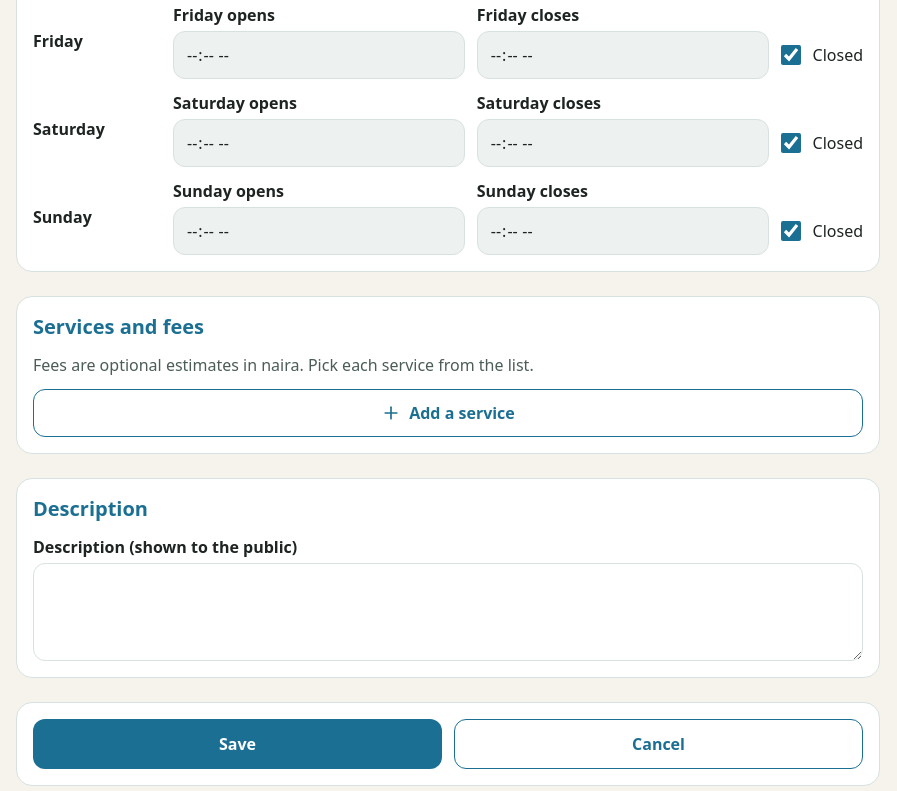
Test: phones, services and the position › adds and removes service rows with their fee fields
The width and height of the screenshot is (897, 791).
(page scrolled)
Click the button "Add a service" at (448, 413), box [33,389,863,437]
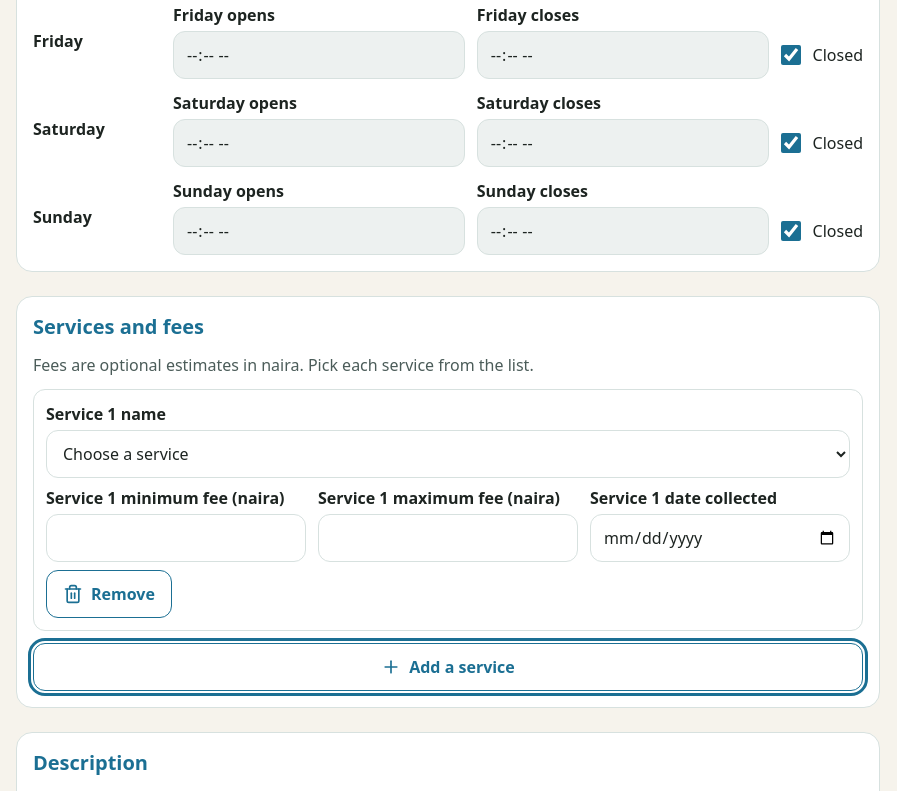
Select "X-ray" in the dropdown labelled "Service 1 name" at (448, 454), box [46,430,850,478]
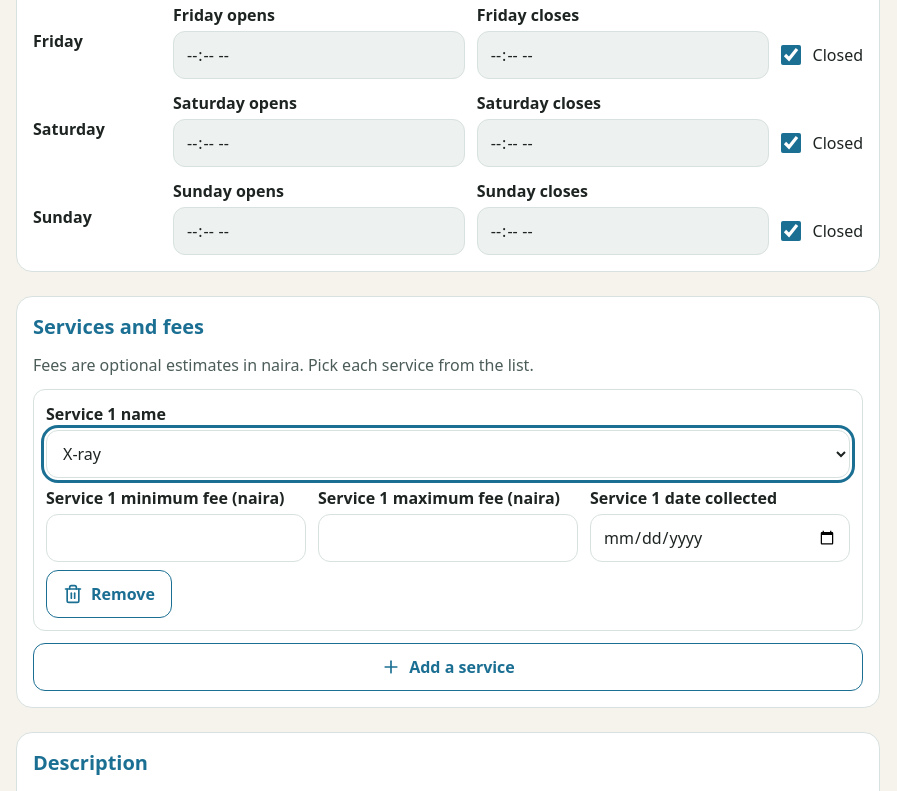
Type "5000" into the field labelled "Service 1 minimum fee (naira)" at (176, 538), box [46,514,306,562]
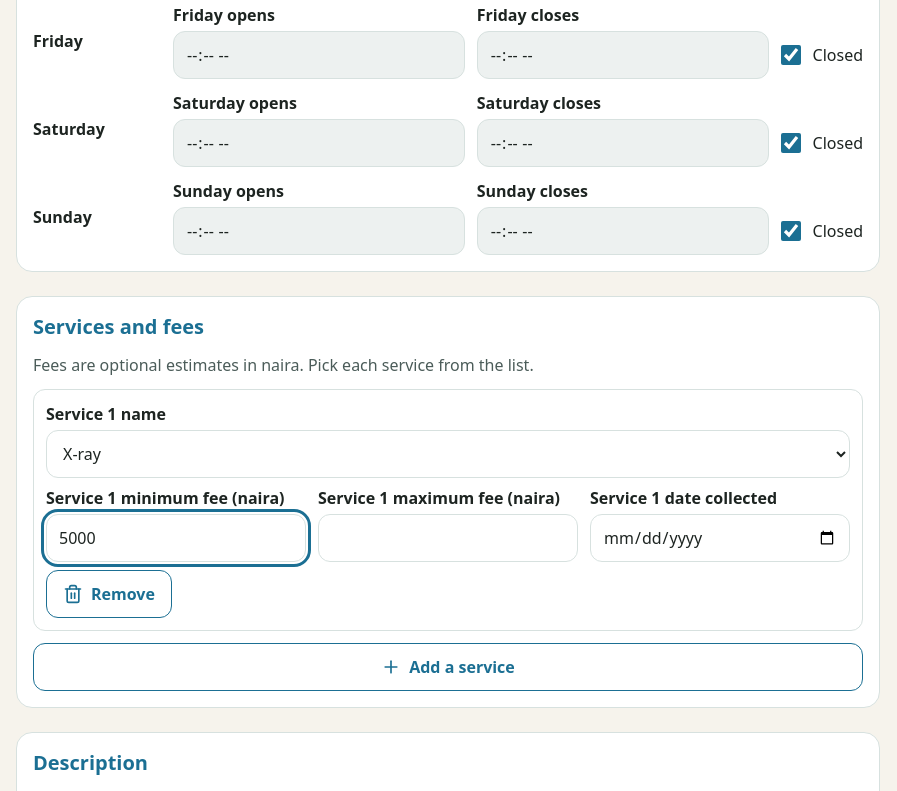
Result: the field labelled "Service 1 maximum fee (naira)" is shown at [318,514,578,562]
Click the button with aria-label "Remove service 1" at (109, 594), box [46,570,172,618]
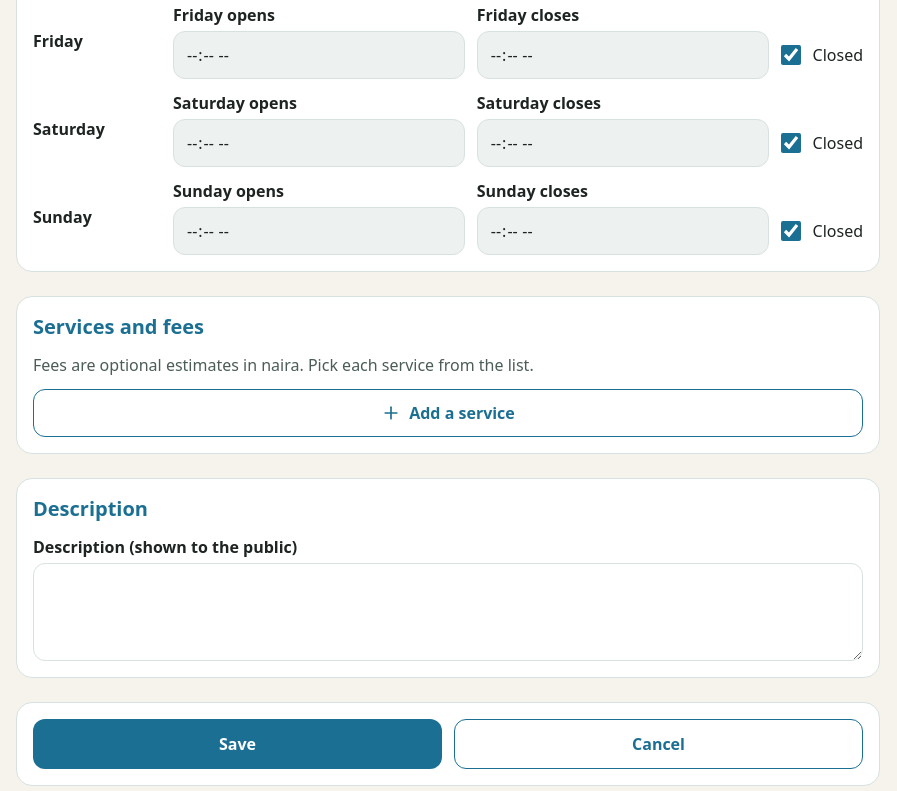
Result: the label labelled "Service 1 name" is gone
